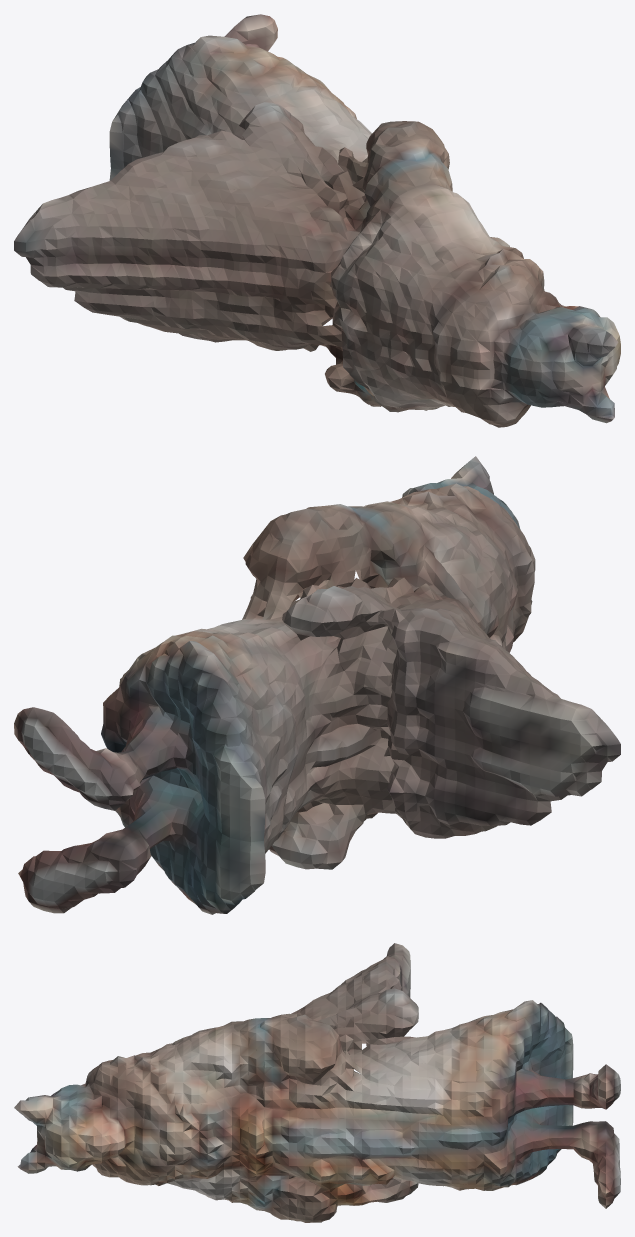
File: prehist_merchant_f_0.glb
The picture shows the model from 3 angles, top to bottom: view 1: azimuth 30°, elevation 25°; view 2: azimuth 150°, elevation 25°; view 3: azimuth 270°, elevation 25°; orthographic projection. The views are drawn at different scales.
Parts seen in each view (by area): view 1: world; view 2: world; view 3: world.
Boxes of the visible parts, box(x1,y1,x2,y2) form: world: box(14, 14, 620, 427); world: box(14, 456, 620, 914); world: box(14, 943, 620, 1222).
Bounding box in the file's own units: 0.6242 × 0.3983 × 1.02.
